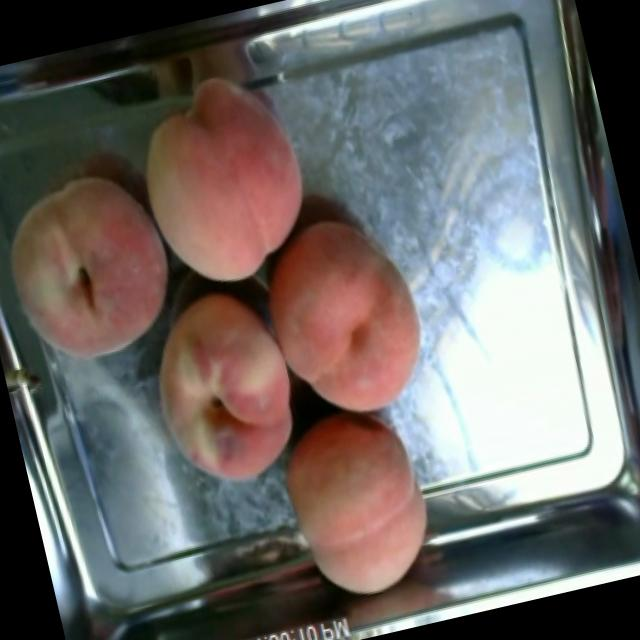Fruit: (112, 53, 336, 307), (250, 192, 449, 436), (0, 149, 194, 385), (266, 392, 456, 618), (128, 273, 312, 504)
